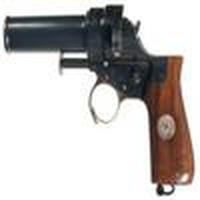gun: (3, 11, 196, 190)
